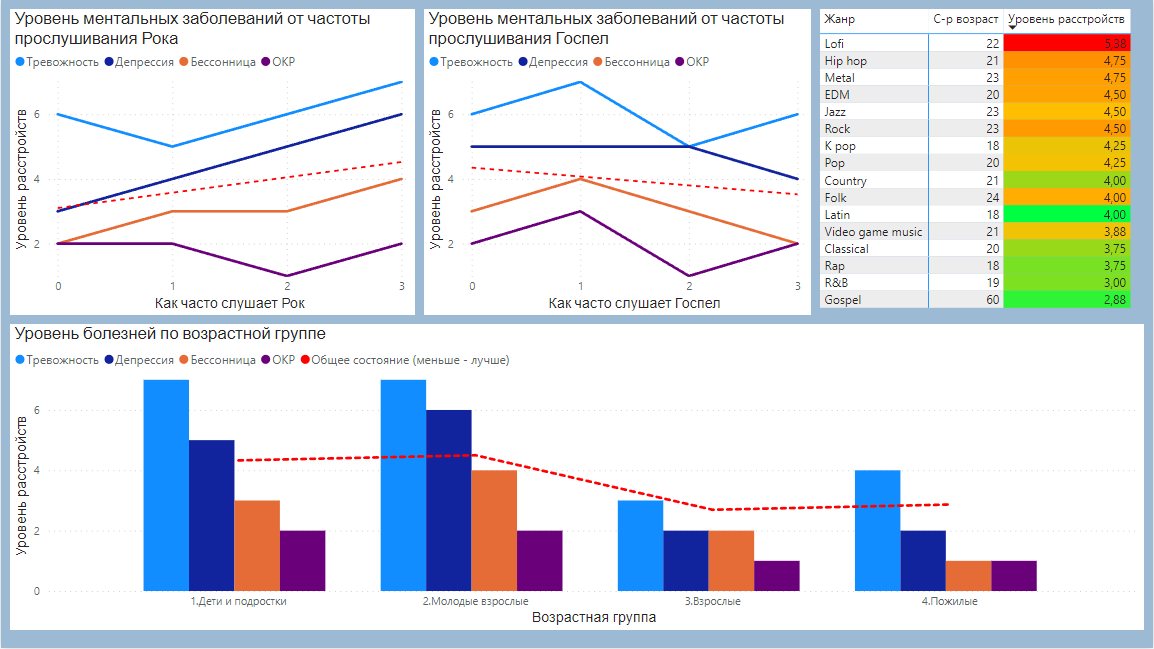

The page's visual inventory and layout, read from the dashboard file:
{"tool":"powerbi","page":{"name":"Страница 1","canvas":[1280,720],"ordinal":0},"visuals":[{"type":"actionButton","box":[0,0,100,40],"z":0},{"type":"lineChart","fields":{"Category":["mxmh_survey_results.Frequency [Gospel]"],"Y":["Avg(mxmh_survey_results.Anxiety)","Avg(mxmh_survey_results.Depression)","Avg(mxmh_survey_results.Insomnia)","Avg(mxmh_survey_results.OCD)"]},"box":[370,0,400,360],"z":1000},{"type":"lineChart","fields":{"Y":["Avg(mxmh_survey_results.Anxiety)","Avg(mxmh_survey_results.Depression)","Avg(mxmh_survey_results.Insomnia)","Avg(mxmh_survey_results.OCD)"],"Category":["mxmh_survey_results.Frequency [Rock]"]},"box":[0,0,370,360],"z":2000},{"type":"pivotTable","fields":{"Rows":["mxmh_survey_results.Fav genre"],"Values":["Avg(mxmh_survey_results.Age)","Avg(mxmh_survey_results.health_rate)"]},"box":[770,0,510,360],"z":3000},{"type":"lineClusteredColumnComboChart","fields":{"Y":["Avg(mxmh_survey_results.Depression)","Avg(mxmh_survey_results.Anxiety)","Avg(mxmh_survey_results.Insomnia)","Avg(mxmh_survey_results.OCD)"],"Y2":["Avg(mxmh_survey_results.health_rate)"],"Category":["mxmh_survey_results.Generation"]},"box":[0,370,1043.3,350],"z":4000}]}

Visuals, with their boxes in screenshot pixels (x1, y1, x2, y2), scaled from the page's 1280x720 canvas onto the 1154x649 screenshot:
actionButton: <box>0,0,90,36</box>
lineChart - mxmh_survey_results.Frequency [Gospel] x Avg(mxmh_survey_results.Anxiety): <box>334,0,694,324</box>
lineChart - Avg(mxmh_survey_results.Anxiety) x Avg(mxmh_survey_results.Depression): <box>0,0,334,324</box>
pivotTable - mxmh_survey_results.Fav genre x Avg(mxmh_survey_results.Age): <box>694,0,1153,324</box>
lineClusteredColumnComboChart - Avg(mxmh_survey_results.Depression) x Avg(mxmh_survey_results.Anxiety): <box>0,334,941,648</box>
